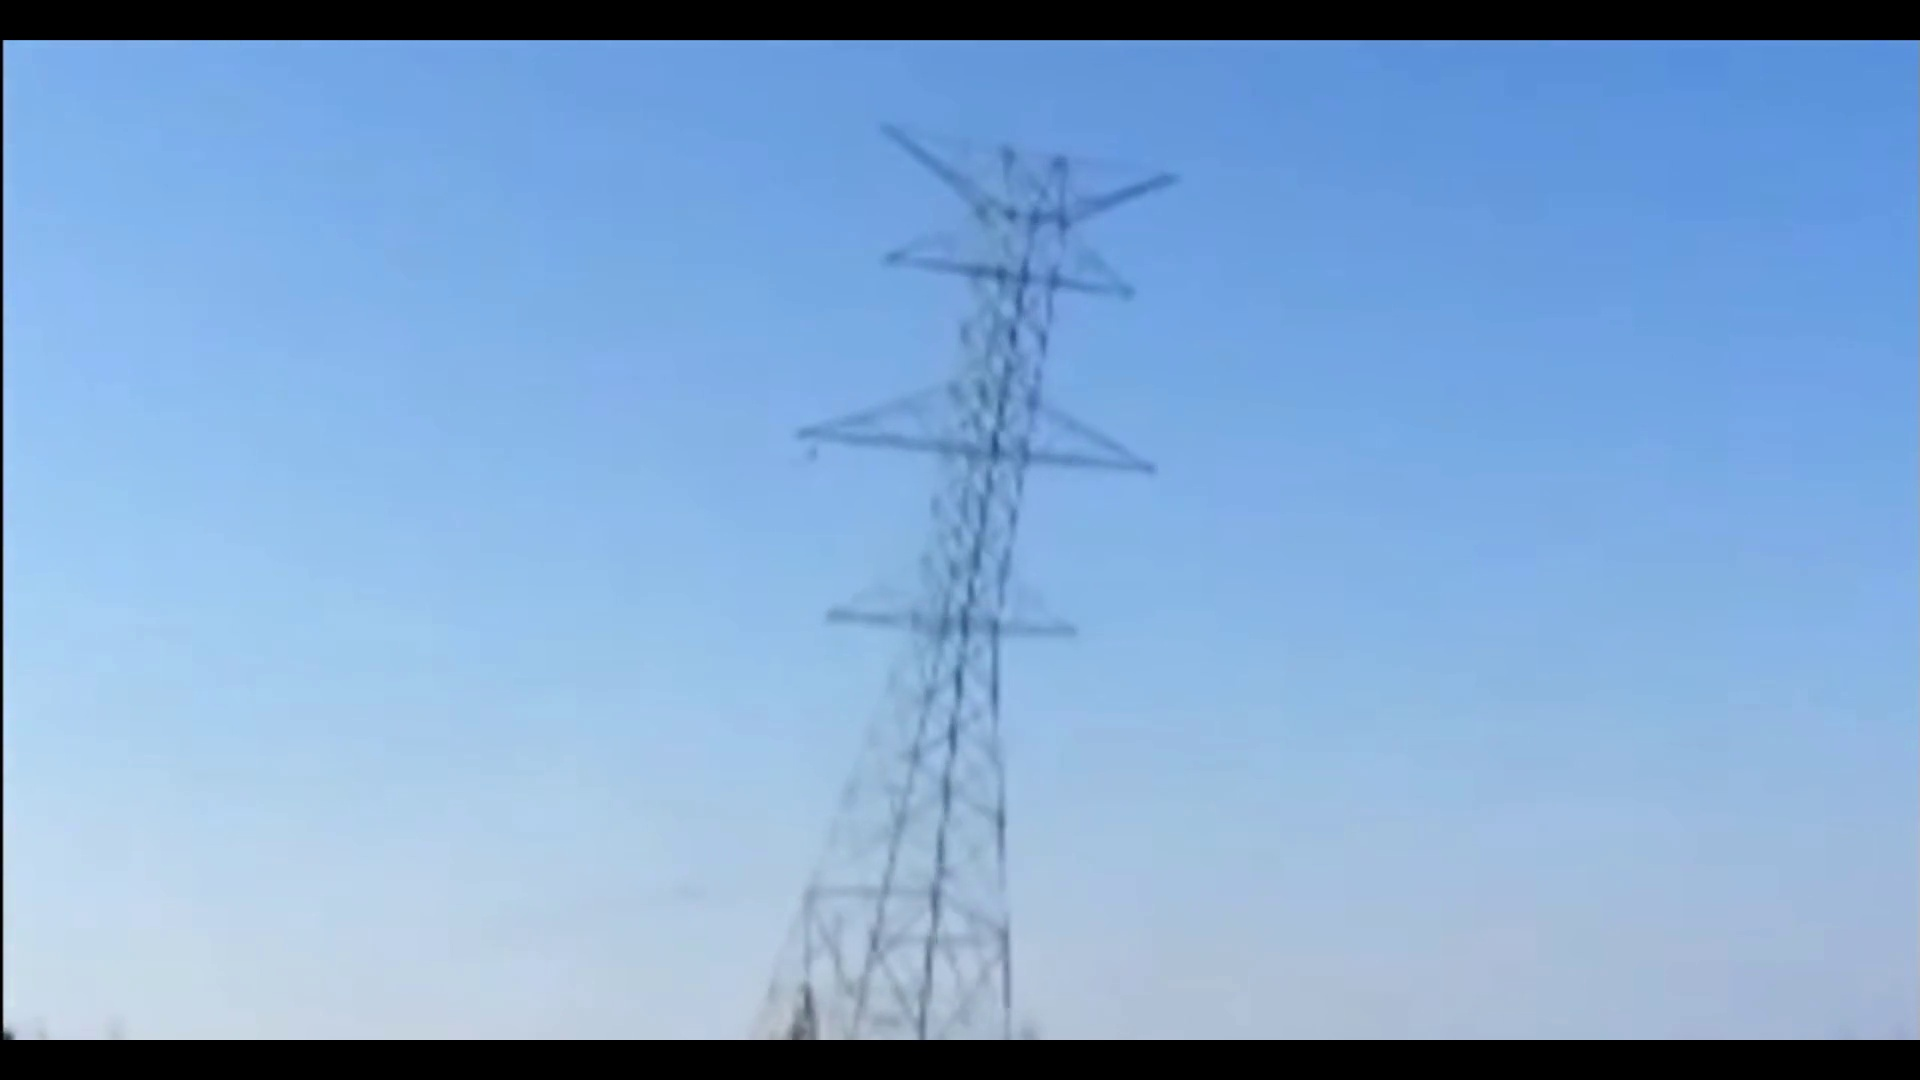tower_up: (757, 75, 1187, 1069)
